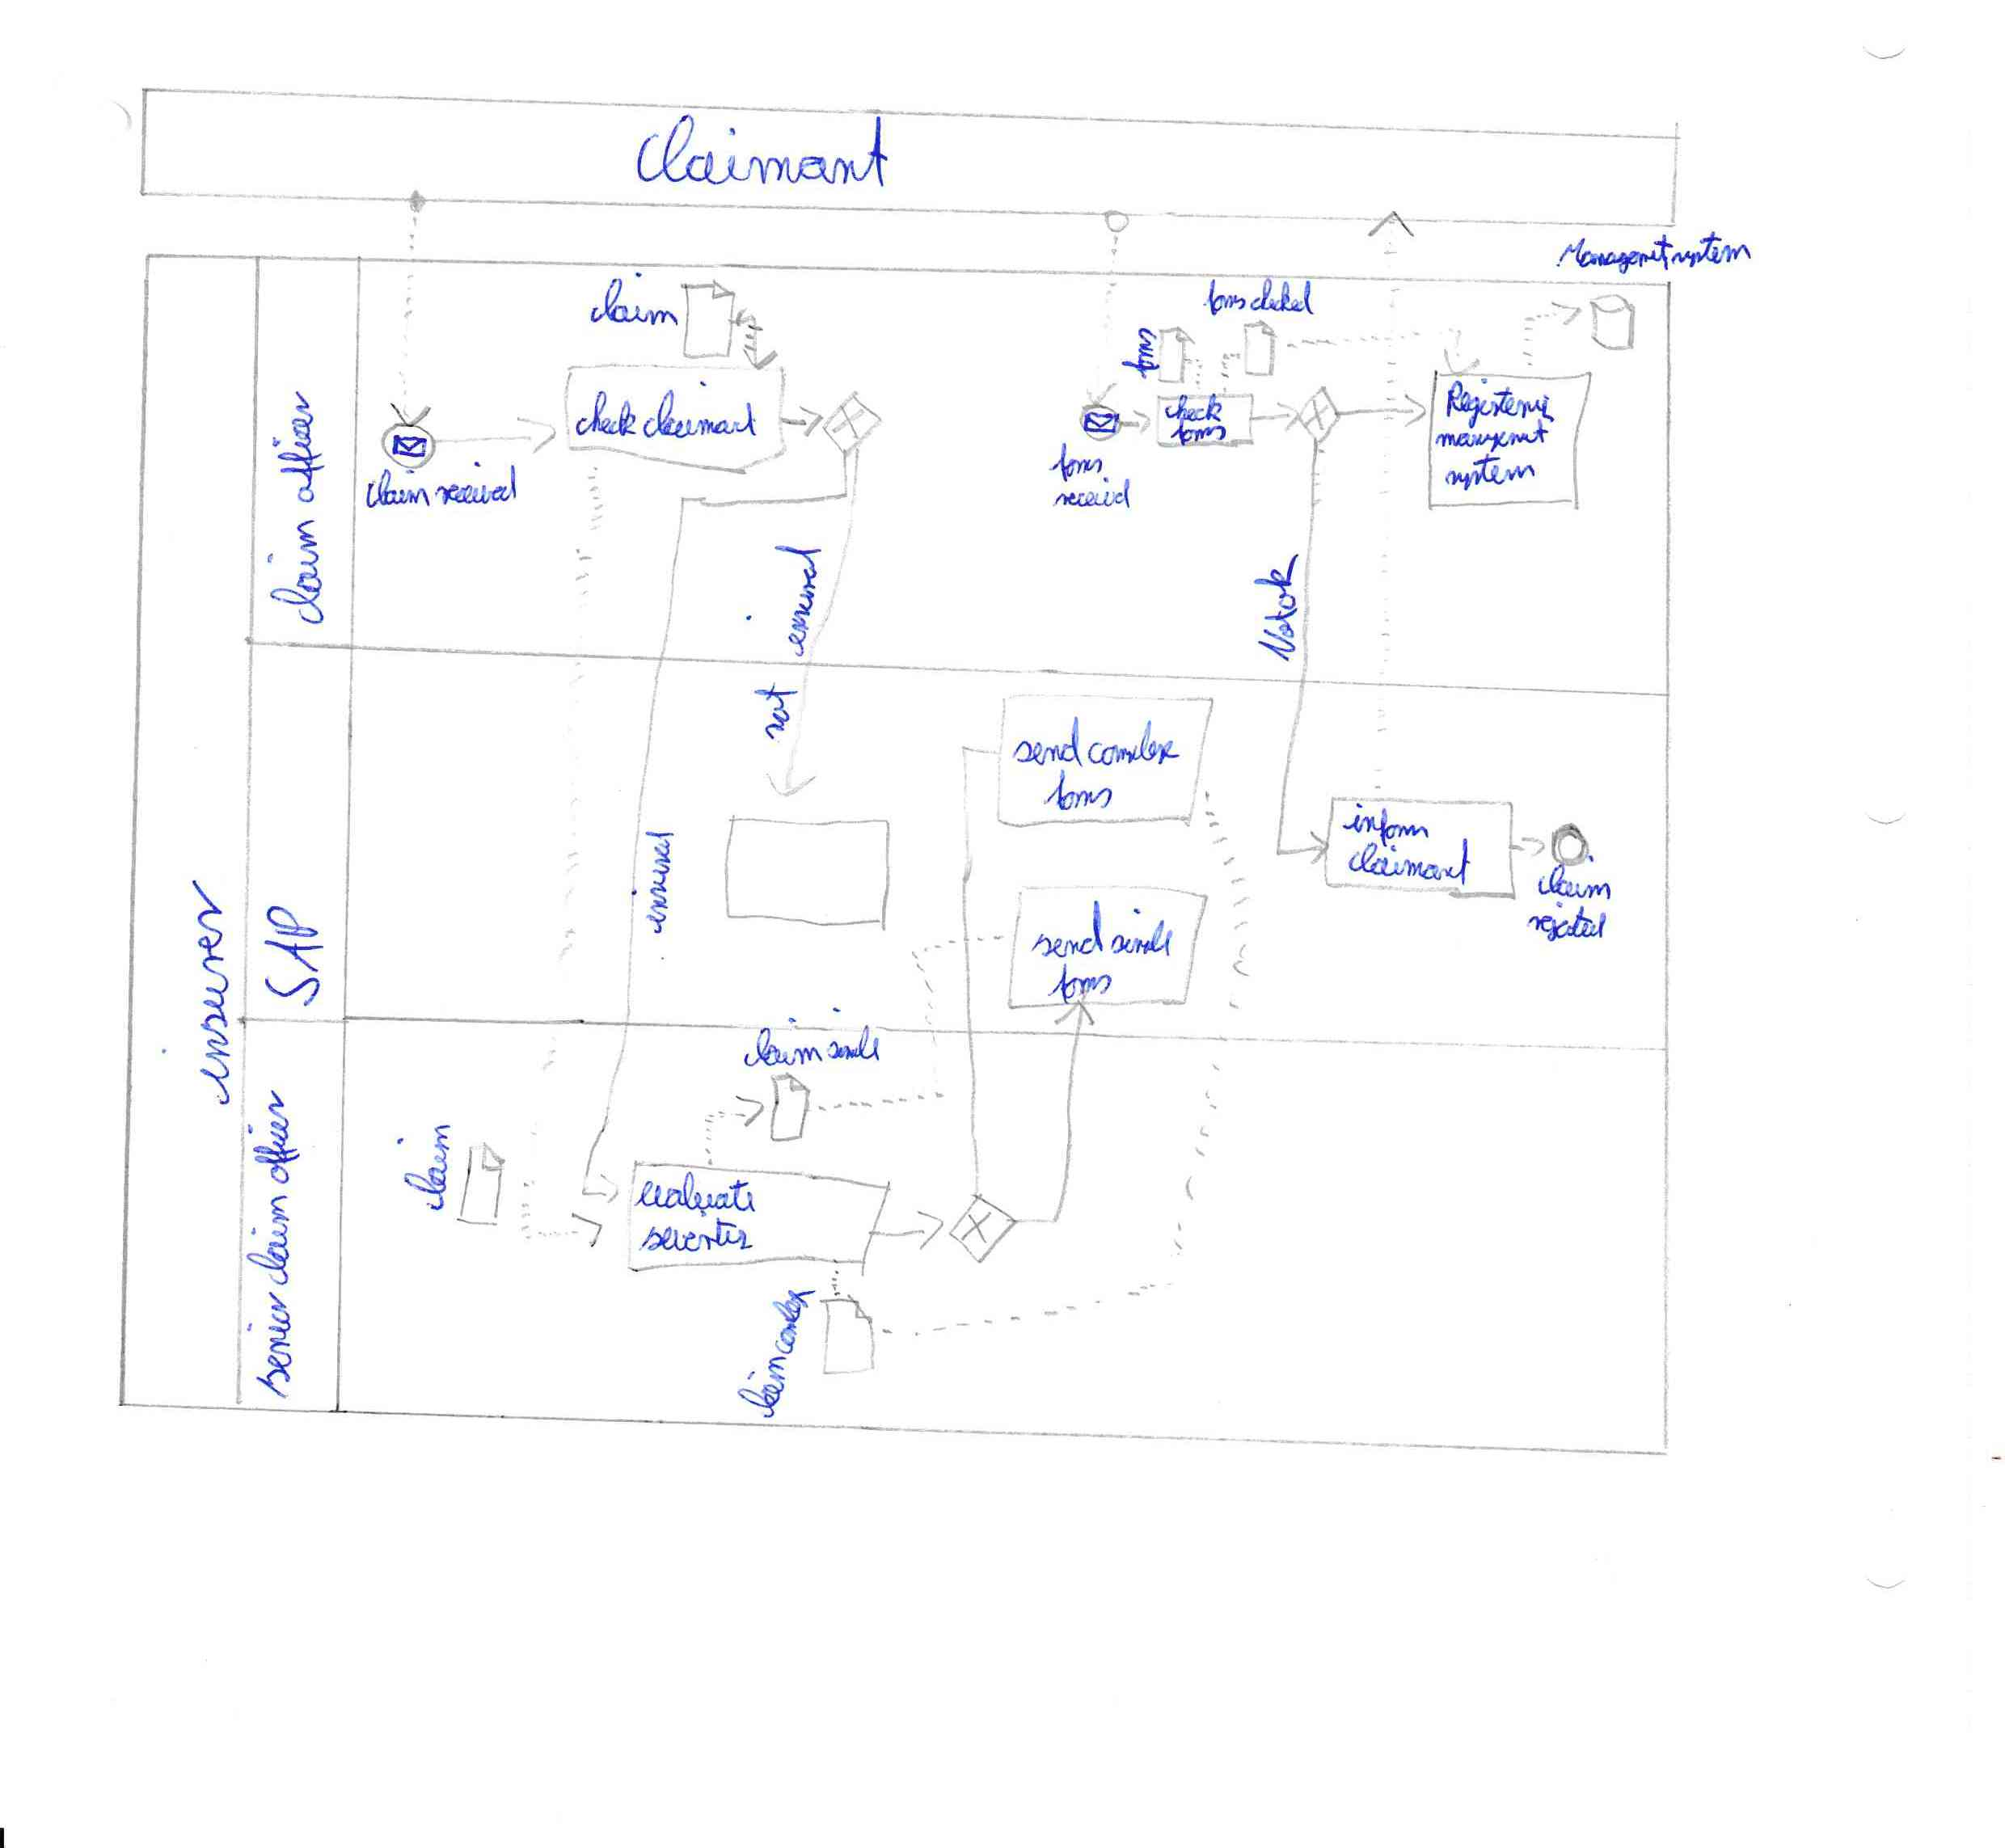Claim: (363, 473, 431, 512)
Management: (1561, 234, 1666, 278)
Notok: (1256, 557, 1305, 659)
Registering: (1441, 384, 1561, 424)
SAP: (258, 907, 327, 1008)
Senior: (248, 1305, 297, 1392)
check: (575, 391, 637, 438), (1156, 395, 1228, 424)
checked: (1252, 278, 1319, 313)
claim: (276, 514, 330, 617), (248, 1188, 299, 1289), (583, 279, 678, 327), (412, 1120, 458, 1214), (737, 1359, 795, 1425), (735, 1029, 819, 1074), (1532, 872, 1616, 905)
claimant: (629, 110, 896, 197), (1348, 844, 1474, 889), (639, 396, 756, 438)
complex: (1081, 728, 1182, 772), (770, 1287, 817, 1355)
evaluate: (632, 1176, 760, 1217)
forms: (1050, 964, 1120, 1003), (1046, 777, 1116, 816), (1128, 321, 1160, 381), (1202, 279, 1249, 318), (1168, 421, 1231, 449), (1053, 451, 1106, 479)
inform: (1345, 807, 1432, 849)
insured: (632, 828, 678, 933)
insurer: (182, 882, 239, 1090)
management: (1436, 421, 1558, 449)
not: (754, 676, 796, 742)
officer: (272, 391, 327, 503), (248, 1081, 302, 1186)
received: (777, 547, 824, 652), (431, 466, 520, 503), (1055, 484, 1133, 512)
rejected: (1525, 898, 1609, 957)
send: (1030, 908, 1106, 957), (1016, 728, 1079, 770)
severity: (643, 1221, 751, 1256)
simple: (1111, 914, 1175, 966), (821, 1029, 899, 1065)
system: (1671, 231, 1757, 274), (1448, 458, 1535, 489)
